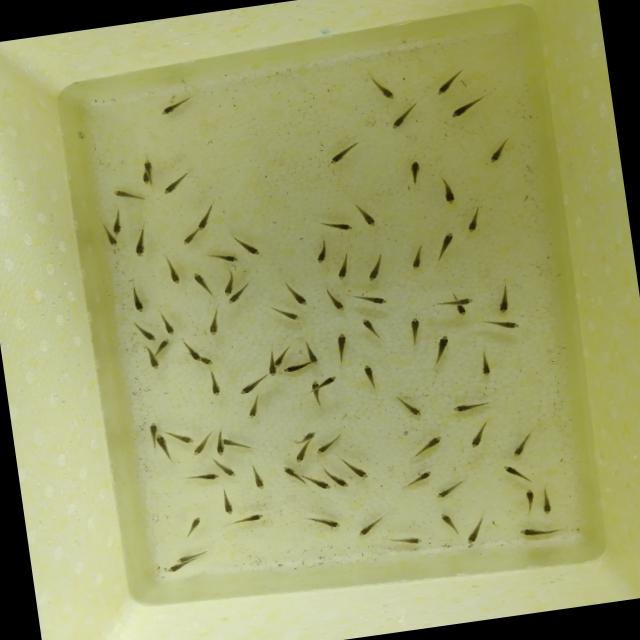fingerling: (429, 65, 472, 101), (445, 92, 494, 122), (322, 138, 366, 170), (386, 100, 426, 134), (406, 434, 449, 464), (391, 391, 429, 424), (448, 395, 500, 419), (158, 167, 196, 198), (484, 134, 518, 168), (365, 71, 400, 104), (351, 198, 383, 234), (432, 476, 472, 504), (354, 510, 391, 540), (160, 250, 188, 288), (304, 511, 346, 536), (499, 460, 536, 488), (516, 521, 563, 543), (506, 430, 540, 460), (463, 419, 493, 453), (200, 367, 230, 401), (431, 230, 461, 264), (348, 288, 390, 312), (460, 514, 491, 546), (488, 283, 518, 316), (460, 204, 490, 237), (157, 92, 195, 118), (436, 172, 462, 210), (384, 530, 428, 552), (281, 278, 312, 309), (330, 252, 360, 284), (130, 222, 154, 262), (362, 252, 391, 285), (242, 461, 270, 495), (480, 314, 522, 336), (429, 332, 455, 366), (316, 216, 356, 238), (224, 511, 270, 530), (191, 271, 218, 303), (404, 156, 428, 192), (314, 433, 348, 458), (308, 236, 334, 268), (331, 330, 354, 366), (236, 374, 270, 398), (435, 509, 462, 539), (183, 467, 223, 487), (242, 394, 268, 424), (193, 203, 219, 233), (401, 467, 438, 488), (202, 248, 240, 268), (474, 346, 496, 379), (128, 280, 148, 316), (112, 186, 146, 207), (224, 434, 256, 456), (204, 307, 226, 339), (272, 304, 304, 326), (403, 316, 425, 348), (133, 318, 159, 345), (358, 316, 384, 343), (304, 471, 332, 496), (323, 286, 347, 315), (360, 361, 380, 394), (182, 513, 208, 538), (170, 428, 198, 451), (537, 485, 557, 517), (218, 486, 238, 518), (236, 238, 264, 260), (180, 338, 202, 364), (521, 486, 540, 516), (436, 296, 476, 310), (220, 267, 238, 298), (406, 244, 426, 271), (109, 208, 128, 236), (159, 311, 178, 338), (290, 443, 313, 465), (280, 464, 304, 484), (156, 433, 173, 461), (294, 428, 320, 446), (348, 462, 371, 482), (273, 344, 292, 368), (189, 439, 212, 458), (264, 348, 278, 379), (306, 341, 322, 367), (212, 428, 226, 457), (281, 362, 310, 376), (309, 378, 323, 406), (332, 473, 352, 492), (318, 372, 339, 390), (154, 338, 176, 355), (180, 230, 200, 248), (220, 462, 238, 481), (146, 356, 165, 374), (165, 562, 186, 576), (145, 421, 160, 438), (455, 305, 471, 320), (226, 294, 245, 306), (141, 158, 156, 173), (106, 236, 122, 250), (175, 553, 192, 566), (202, 356, 218, 368), (140, 173, 150, 187)
